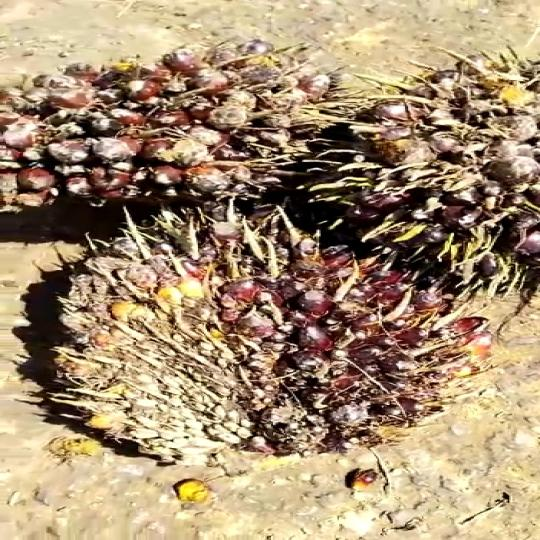kurang masak: (29, 211, 489, 470), (285, 44, 540, 296), (16, 29, 297, 215)
